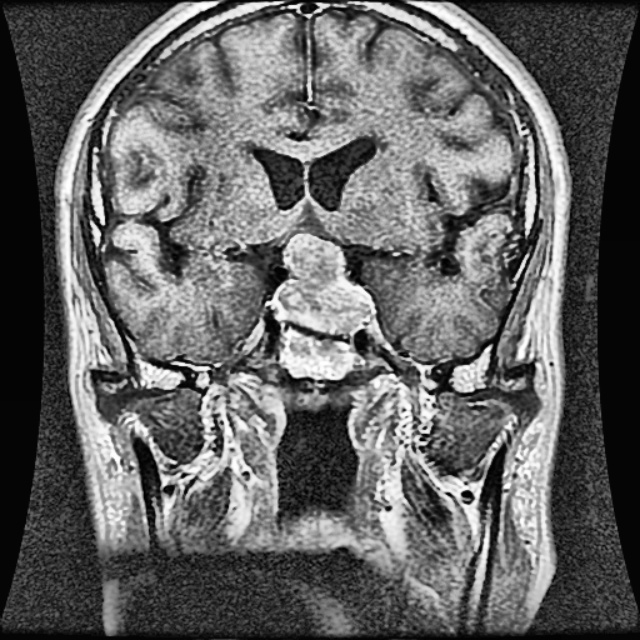Pituitary: (278, 234, 374, 333)
